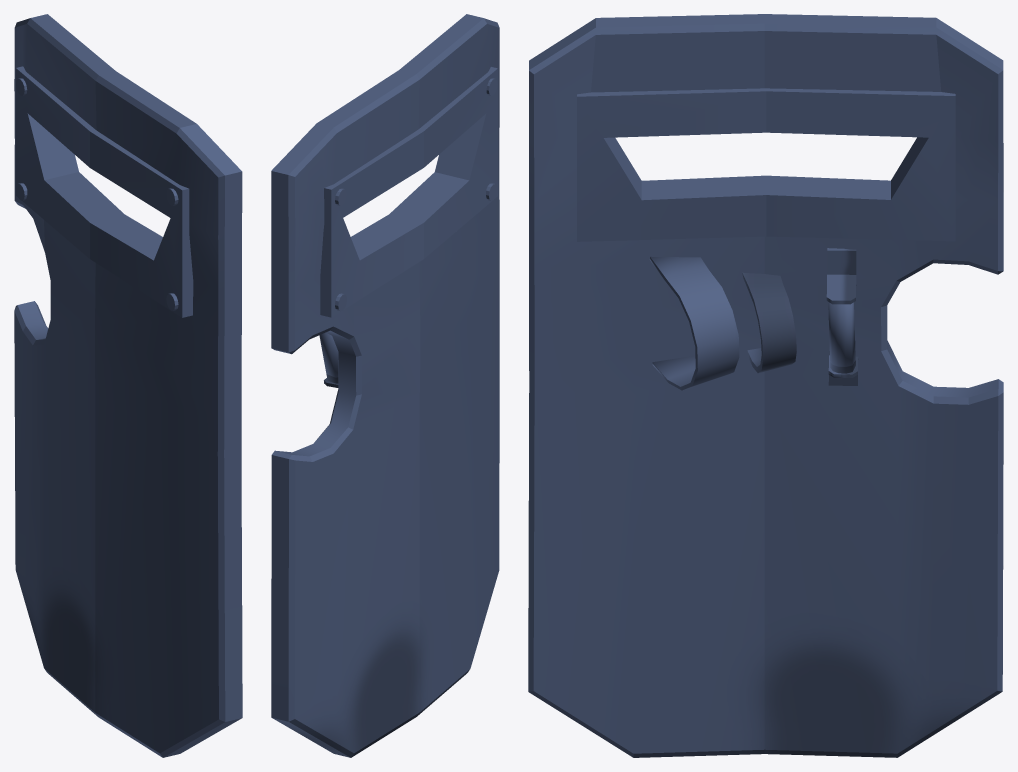
The model's file is RiotShieldGM.fbx.
3 views of the same model, side by side, from view 1: azimuth 30°, elevation 25°; view 2: azimuth 150°, elevation 25°; view 3: azimuth 270°, elevation 25° (orthographic). The views are drawn at different scales.
Parts seen in each view (by area): view 1: ModelShield; view 2: ModelShield; view 3: ModelShield.
Boxes of the visible parts, box(x1,y1,x2,y2) form: ModelShield: box(14, 14, 242, 757); ModelShield: box(271, 14, 499, 757); ModelShield: box(528, 14, 1003, 757).
Size of the model in its own units: 291 by 1608 by 948.
